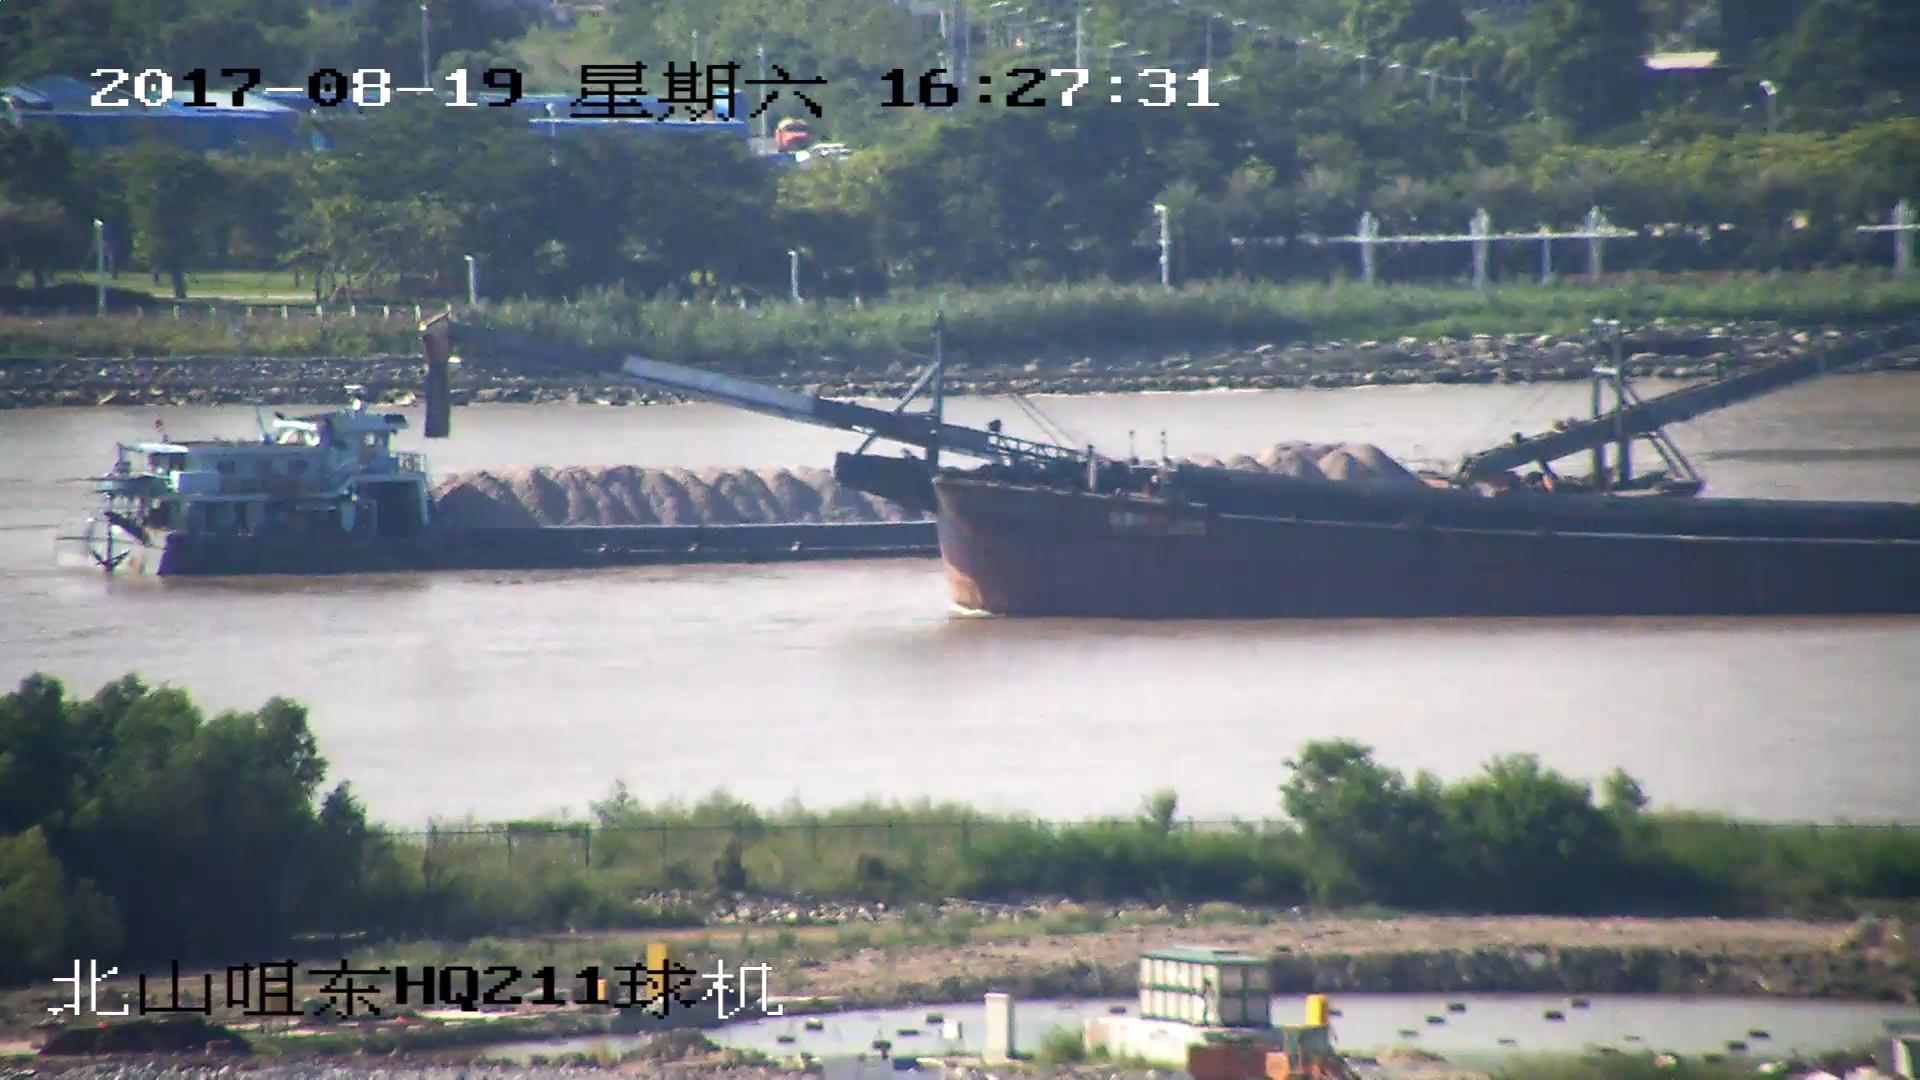Ship: (88, 324, 1920, 582), (423, 324, 1920, 622)
